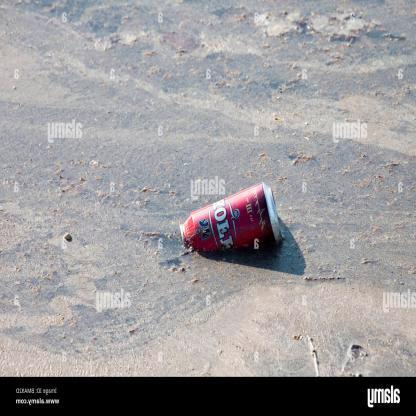Metal: (176, 180, 286, 259)
